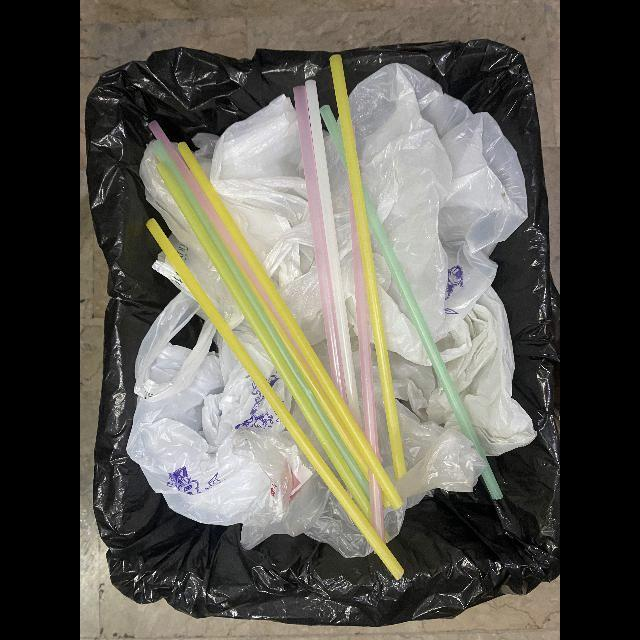plastic_bag: (349, 63, 527, 362), (133, 340, 284, 526)
